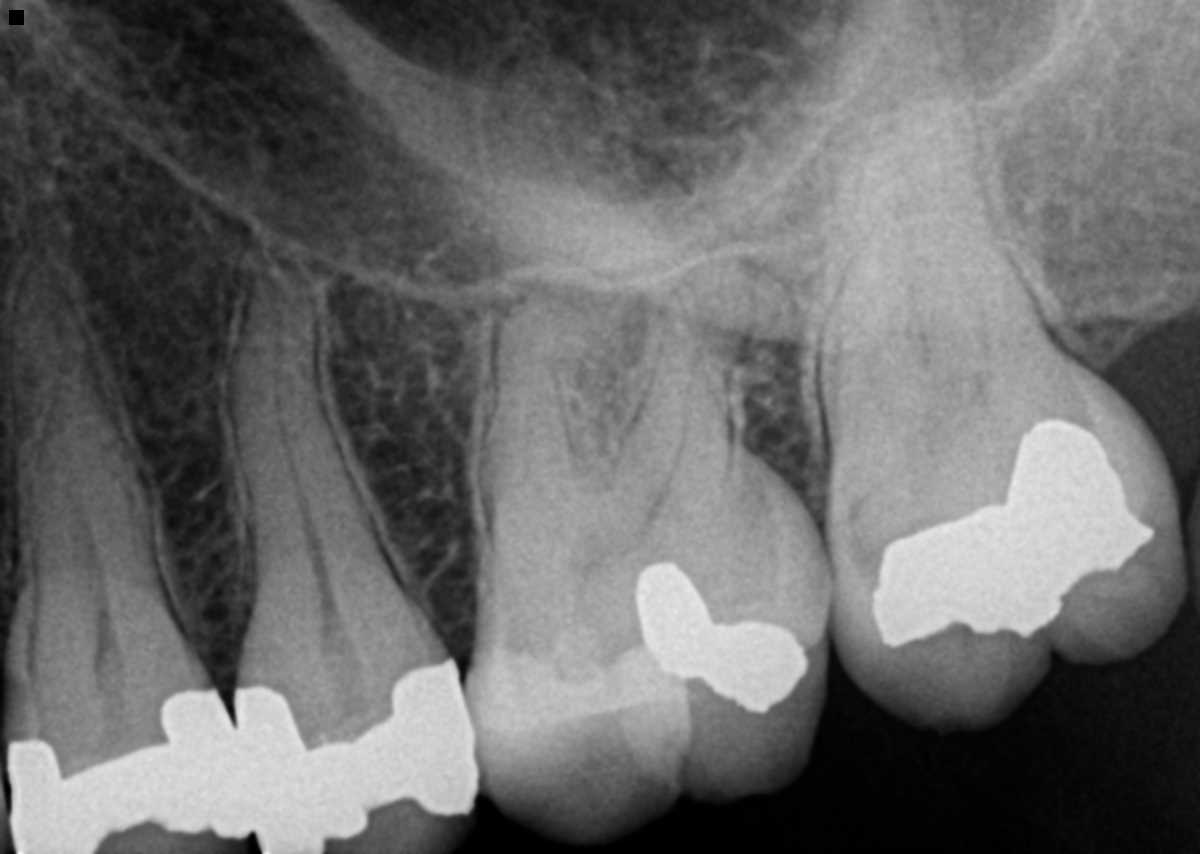Apical Lesion: (477, 8, 602, 99)
Distal Canal: (661, 318, 715, 484)
Distal Root: (620, 260, 796, 496), (897, 220, 1043, 364)
Main Canal: (265, 268, 342, 625), (60, 458, 115, 629)
Main Root: (225, 254, 407, 628), (15, 262, 183, 634)
Mesial Root: (477, 297, 594, 556), (821, 234, 927, 457)
Palatal Root: (469, 58, 760, 554), (822, 0, 1057, 466)
